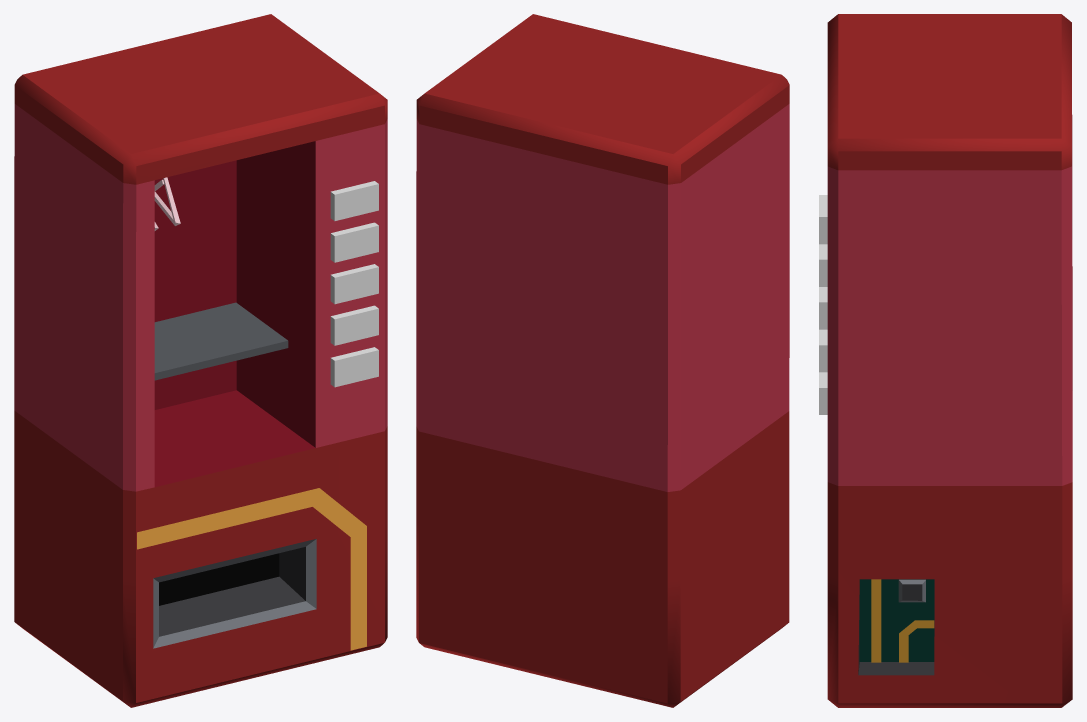
File: AutoDrobe.glb
The picture shows the model from 3 angles, left to right: view 1: azimuth 30°, elevation 25°; view 2: azimuth 150°, elevation 25°; view 3: azimuth 270°, elevation 25°; orthographic projection. The views are drawn at different scales.
Parts seen in each view (by area): view 1: AutoDrobe; view 2: AutoDrobe; view 3: AutoDrobe.
Part boxes in pixels (bbox=[...]): AutoDrobe: bbox=[14, 14, 387, 707]; AutoDrobe: bbox=[416, 14, 789, 707]; AutoDrobe: bbox=[819, 14, 1072, 707].
Size of the model in its own units: 0.9 by 1.8 by 0.7291.
2 materials, 1 textured.
